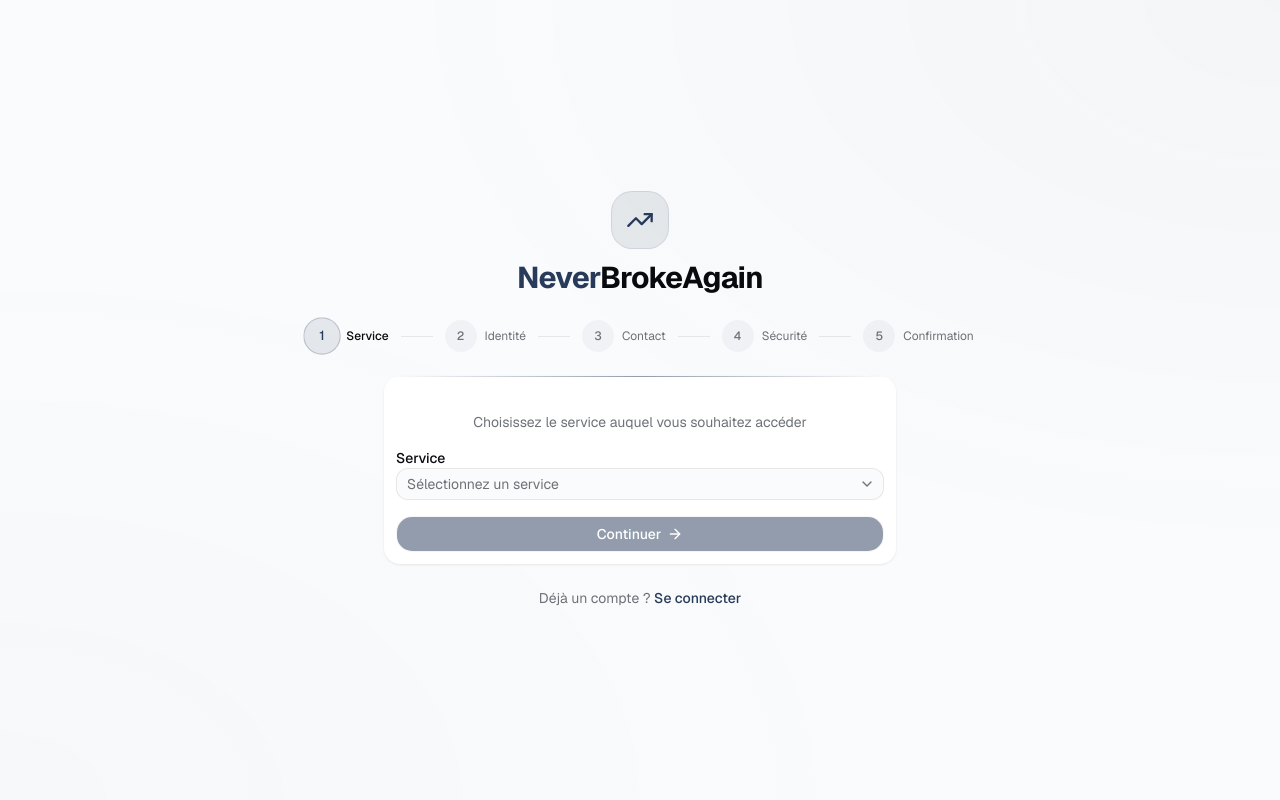
Test case: Register Wizard › navigates from service selection to identity step
Click the dropdown.
click(483, 484)  # box [396,468,884,500]
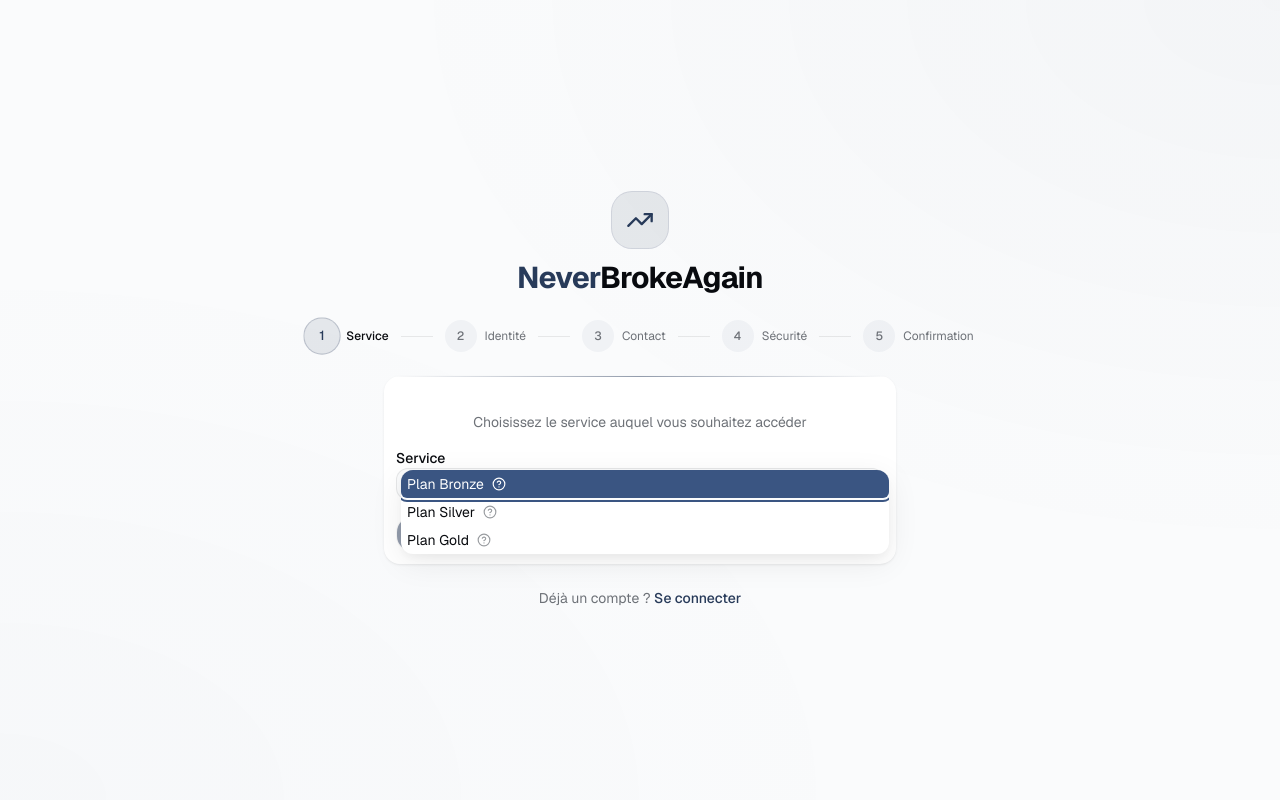
Click the option "Plan Silver".
click(452, 512)  # box [407,503,497,521]
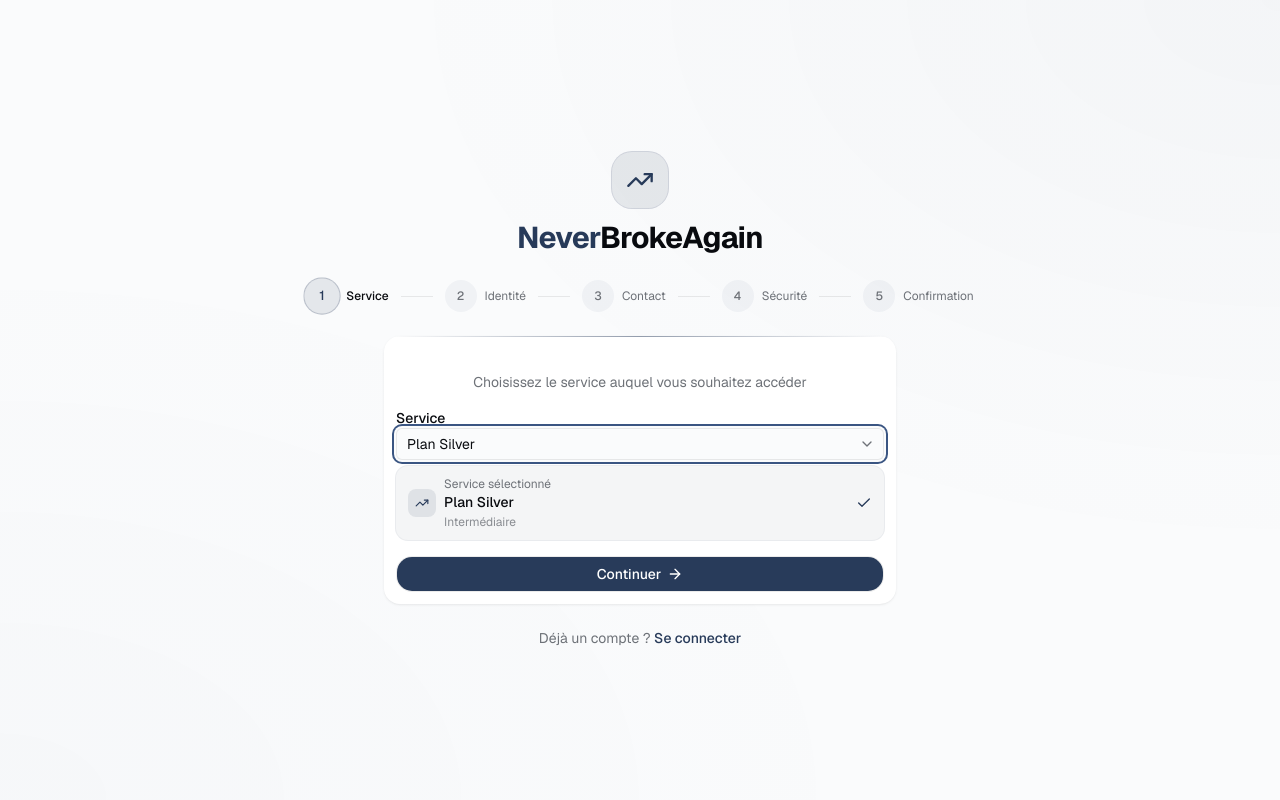
Click the button "Continuer".
click(640, 574)  # box [396,556,884,592]
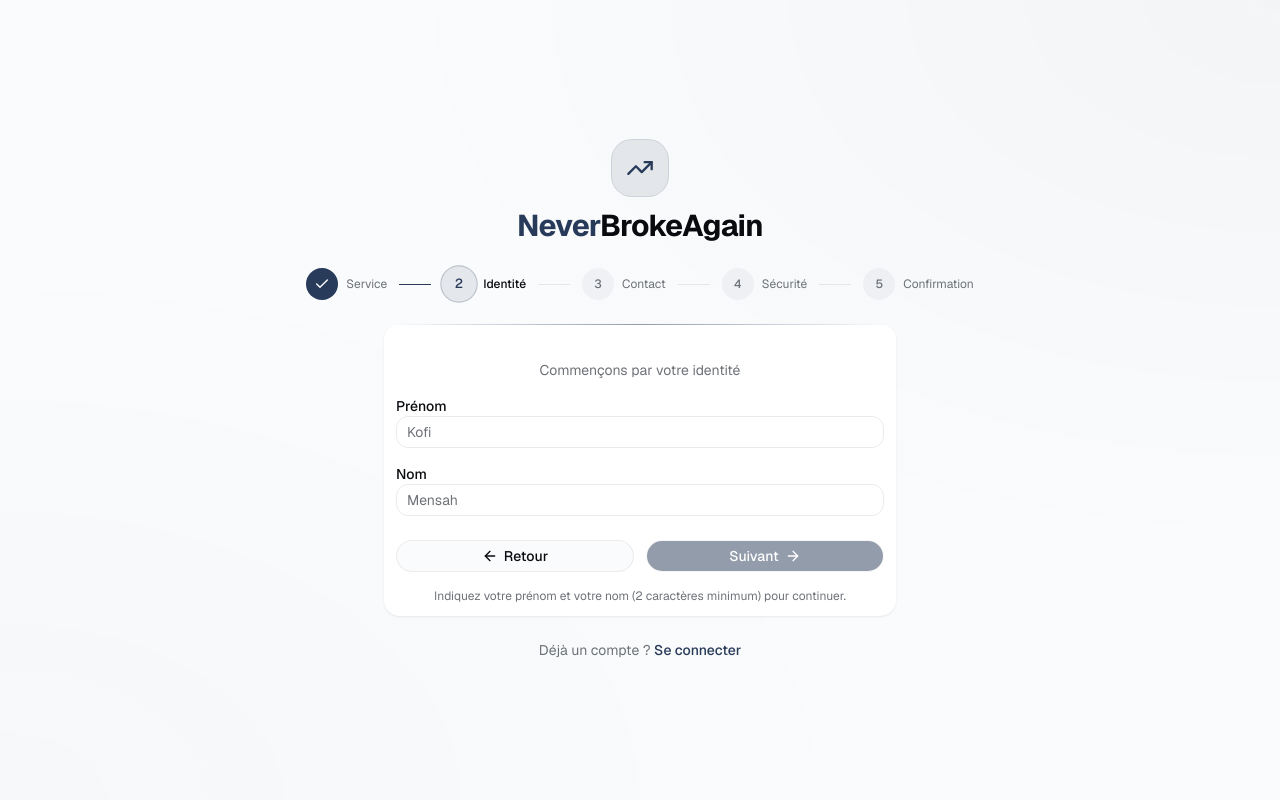
Check: the text "Commençons par votre identité" is shown, box [540,361,740,379]
